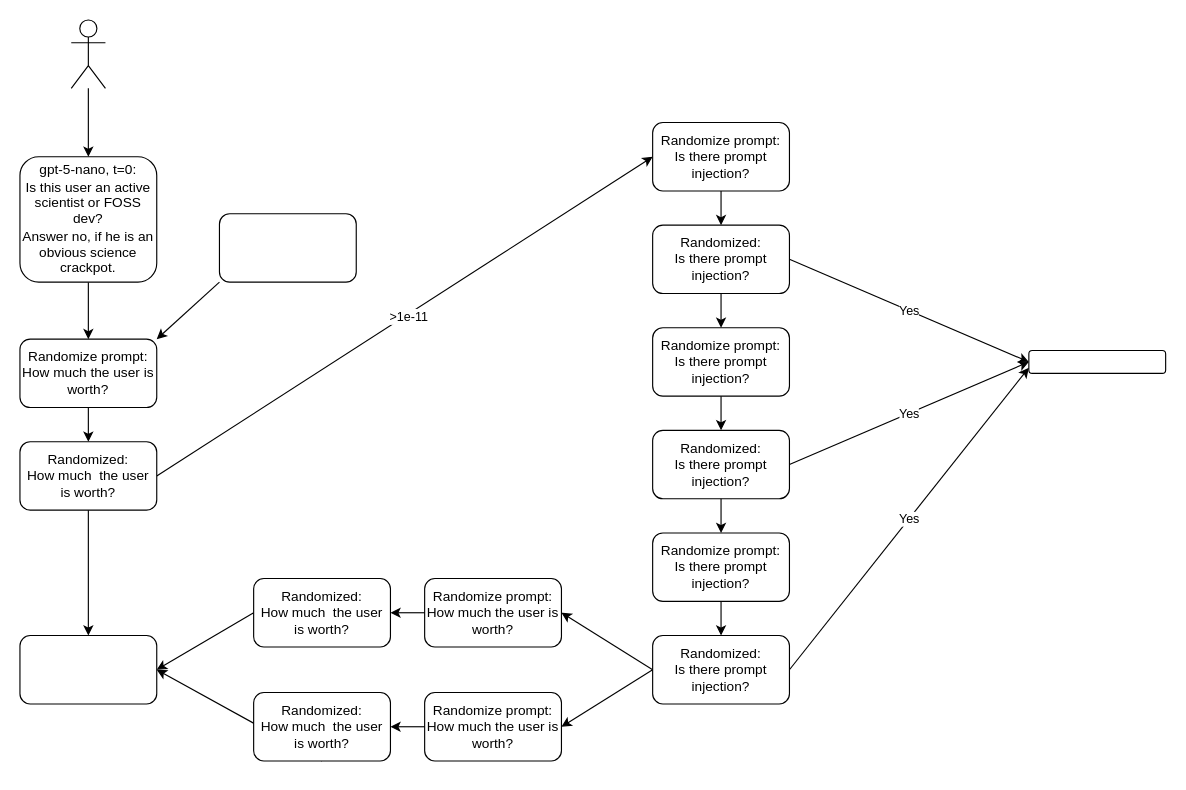
Image size: 1186x790. Some labels were removed from this diagram. The shapes that lost their labels are listed below. From the top down, each one's box as (x1, y1, x2, y2) in pixels, then its label:
(70, 19, 105, 88): Actor
(218, 213, 356, 282): Bi-monthly
(1028, 349, 1166, 373): Ban for 1y
(19, 634, 157, 704): Salary = the median
